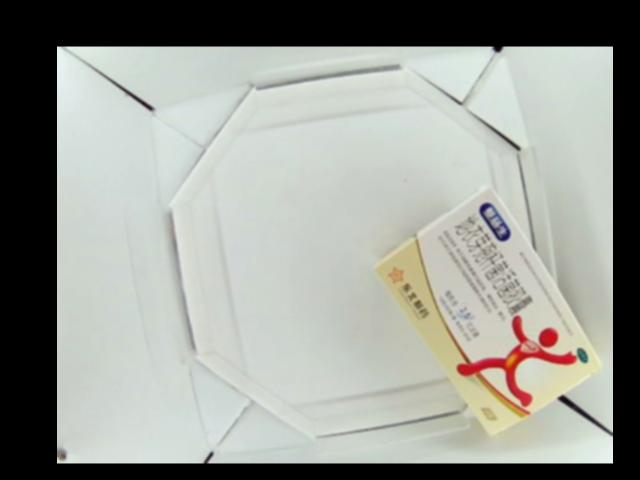Medicine: (372, 186, 603, 435)
